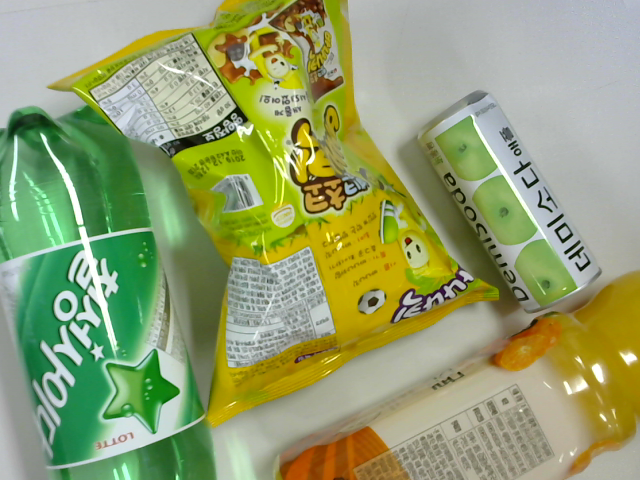Banana_Kick: (41, 1, 484, 407)
Chilseong_Cider_1.5L: (12, 99, 214, 480)
Demisoda_Apple_Can_250ml: (418, 85, 596, 321)
Jeju_Tangerine_1.5L: (262, 250, 640, 479)
